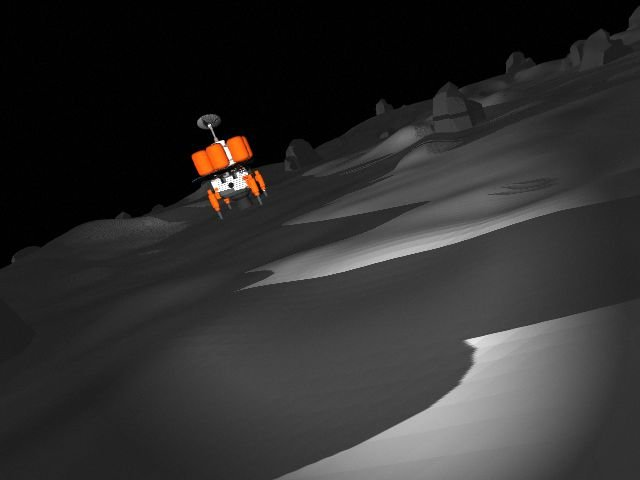homebase: (188, 111, 271, 223)
